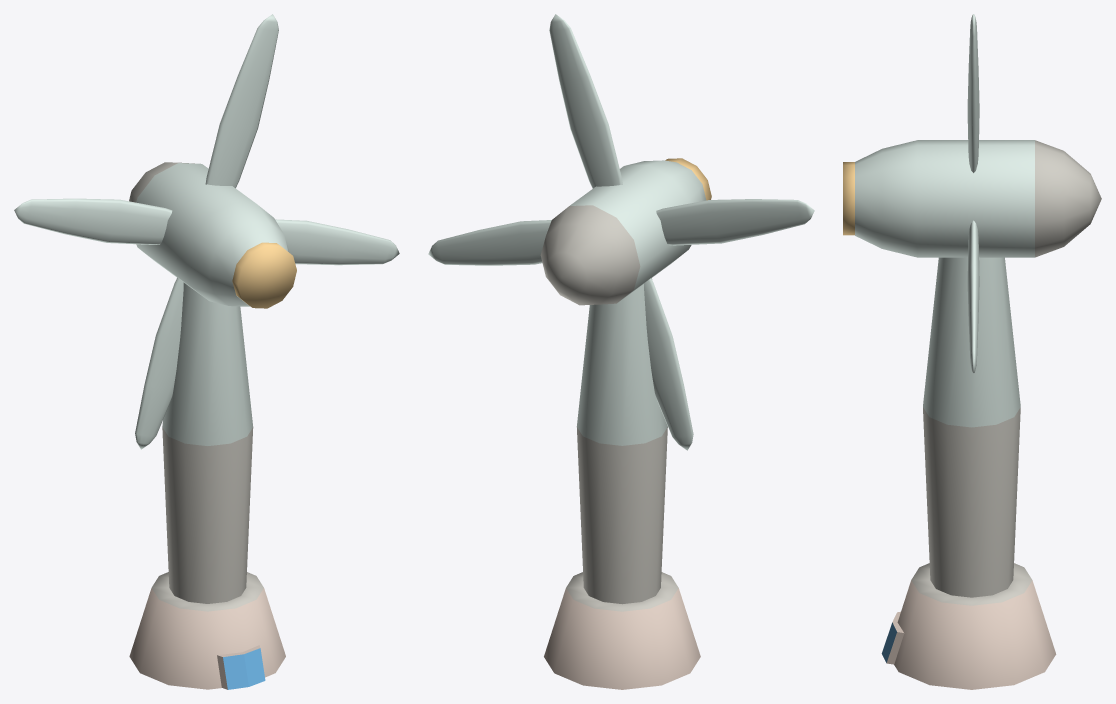
Rendered from SimpleBuilding2.fbx.
The picture shows the model from 3 angles, left to right: view 1: azimuth 30°, elevation 25°; view 2: azimuth 150°, elevation 25°; view 3: azimuth 270°, elevation 25°; orthographic projection. The views are drawn at different scales.
Parts seen in each view (by area): view 1: Cylinder.036, Cylinder.037; view 2: Cylinder.036, Cylinder.037; view 3: Cylinder.036, Cylinder.037.
Part boxes in pixels (bbox=[...]): Cylinder.036: bbox=[129, 162, 296, 689]; Cylinder.037: bbox=[14, 14, 399, 449]; Cylinder.036: bbox=[540, 158, 711, 689]; Cylinder.037: bbox=[428, 14, 814, 450]; Cylinder.036: bbox=[843, 140, 1101, 689]; Cylinder.037: bbox=[967, 14, 979, 373].
Size of the model in its own units: 3488 by 5407 by 1880.
1 material, 1 textured.
